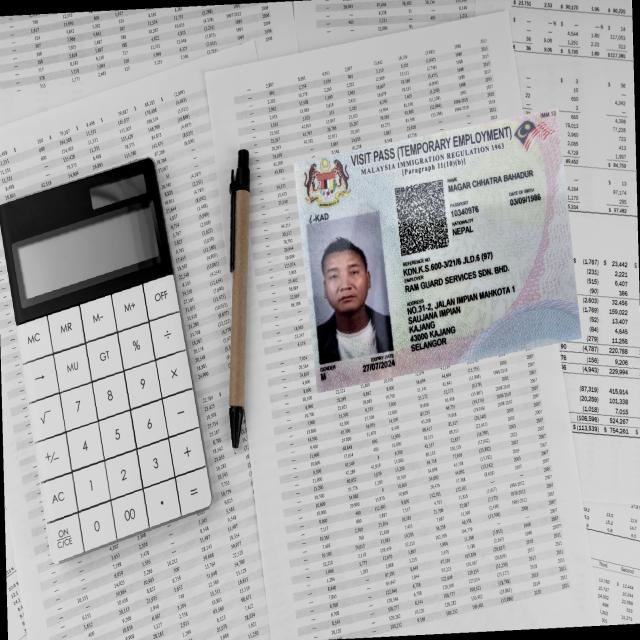ikad-temp: (290, 101, 585, 413)
